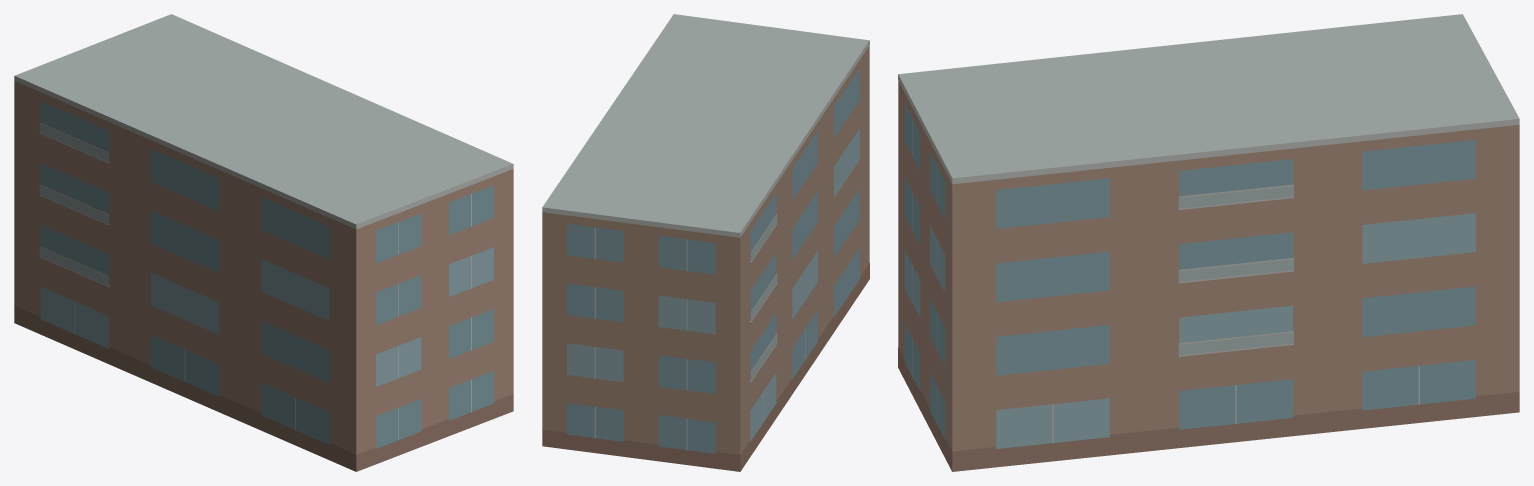
The model's file is survey-upis-32821560.glb.
The picture shows the model from 3 angles, left to right: view 1: azimuth 30°, elevation 25°; view 2: azimuth 150°, elevation 25°; view 3: azimuth 270°, elevation 25°; orthographic projection. The views are drawn at different scales.
Visible parts, largest first — view 1: survey-upis-32821560.tmp; view 2: survey-upis-32821560.tmp; view 3: survey-upis-32821560.tmp.
Boxes of the visible parts, <box> form: survey-upis-32821560.tmp: <box>14,14,513,471</box>; survey-upis-32821560.tmp: <box>542,14,869,471</box>; survey-upis-32821560.tmp: <box>898,14,1519,471</box>.
Bounding box in the file's own units: 14.61 × 12.15 × 23.33.
